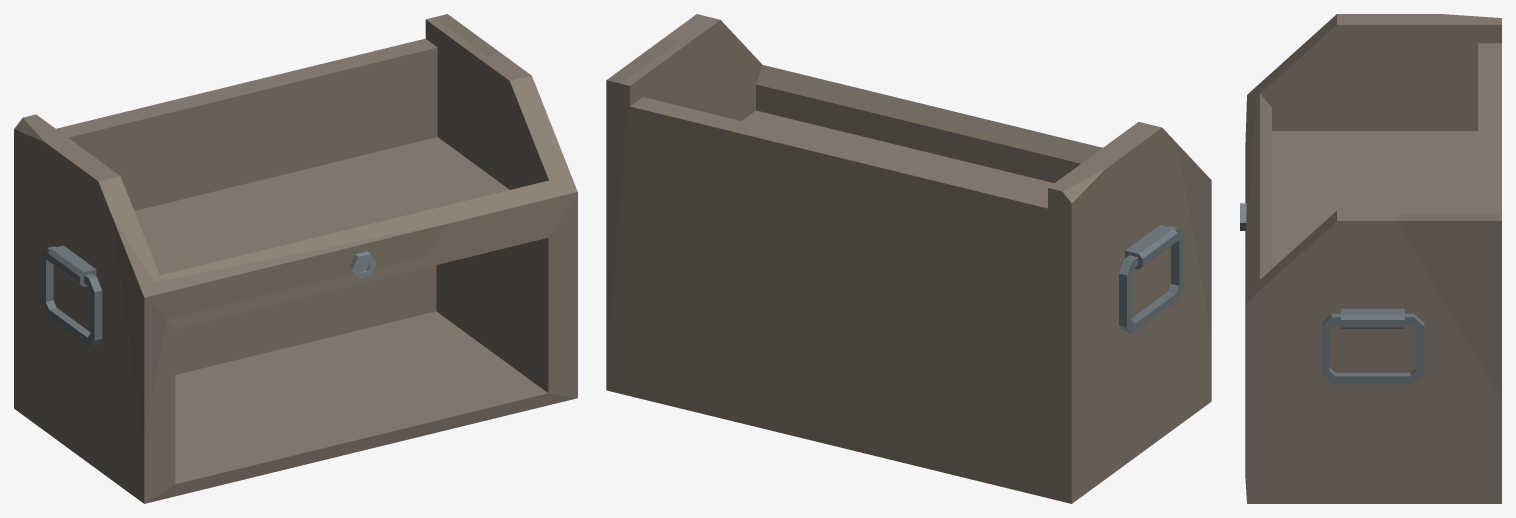
Rendered from SM_Prop_ToolCabinet_Top_02.fbx.
3 renders of one model, left to right at view 1: azimuth 30°, elevation 25°; view 2: azimuth 150°, elevation 25°; view 3: azimuth 270°, elevation 25°, orthographic. The views are drawn at different scales.
Parts seen in each view (by area): view 1: SM_Prop_ToolCabinet_Top_02; view 2: SM_Prop_ToolCabinet_Top_02; view 3: SM_Prop_ToolCabinet_Top_02.
Part boxes in pixels (box(x1,y1,x2,y2)): SM_Prop_ToolCabinet_Top_02: box(14, 14, 577, 503); SM_Prop_ToolCabinet_Top_02: box(606, 14, 1211, 503); SM_Prop_ToolCabinet_Top_02: box(1240, 14, 1501, 503).
Size of the model in its own units: 81.58 by 48.34 by 40.55.
